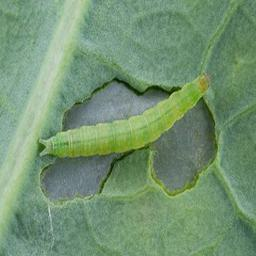Tobacco_budworm: (36, 73, 210, 160)
